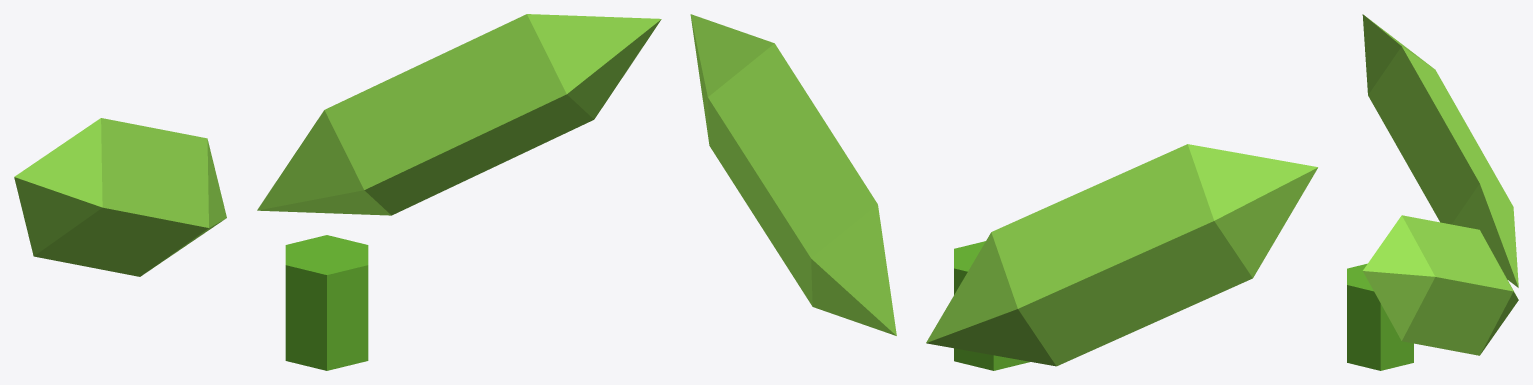
Rendered from pip_sprout.glb.
The picture shows the model from 3 angles, left to right: view 1: azimuth 30°, elevation 25°; view 2: azimuth 150°, elevation 25°; view 3: azimuth 270°, elevation 25°; orthographic projection. The views are drawn at different scales.
Parts seen in each view (by area): view 1: Sprout; view 2: Sprout; view 3: Sprout.
Part boxes in pixels (x1=…): Sprout: x1=14, y1=14, x2=661, y2=370; Sprout: x1=690, y1=14, x2=1317, y2=370; Sprout: x1=1347, y1=14, x2=1518, y2=370.
Size of the model in its own units: 0.7075 by 0.2875 by 0.1998.
